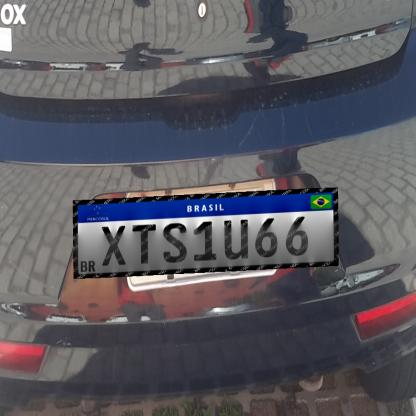PlacaM: (73, 188, 338, 278)
